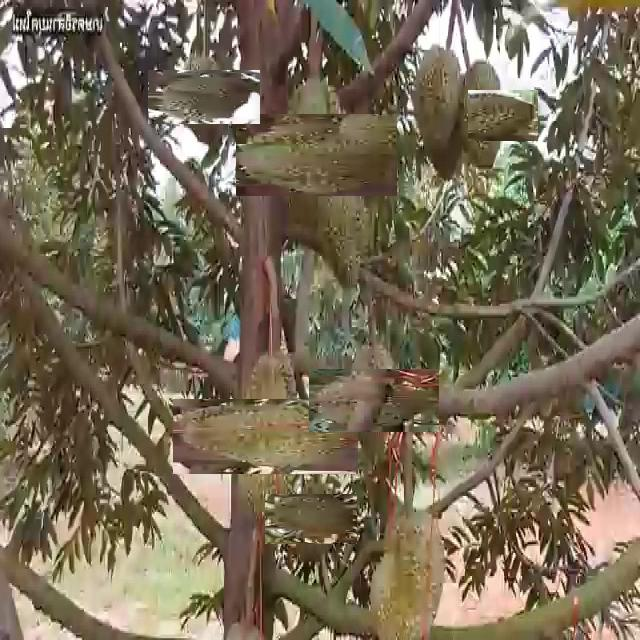durian: (200, 372, 331, 502), (256, 94, 378, 216), (362, 500, 450, 638), (326, 352, 423, 449), (409, 38, 468, 189), (315, 170, 378, 300), (162, 56, 246, 139), (440, 74, 523, 157), (276, 484, 347, 555)
